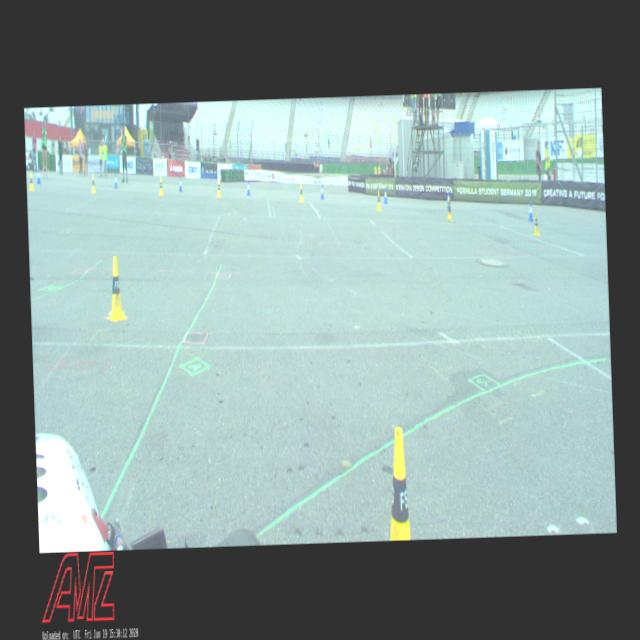blue_cone: (528, 200, 532, 220), (113, 172, 118, 188), (383, 186, 387, 204), (320, 183, 324, 200), (36, 168, 40, 183), (446, 191, 449, 208), (178, 178, 182, 190), (247, 180, 250, 194)
yellow_cone: (386, 427, 410, 538), (104, 256, 127, 319), (532, 212, 540, 235), (90, 174, 95, 194), (446, 199, 451, 218), (216, 180, 221, 197), (158, 177, 163, 194), (298, 184, 303, 201), (28, 172, 33, 189), (376, 190, 380, 209)
